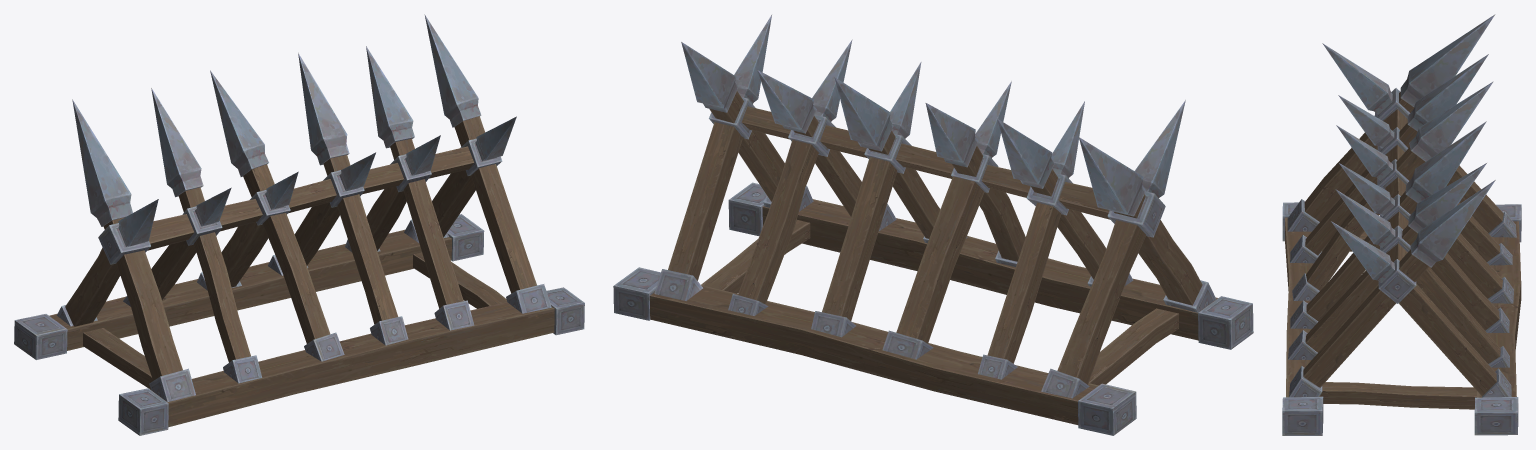
The model's file is Homeworld_Exterior_Xm_Decoration_Prop_Barrier_01_Lod0.fbx.
The picture shows the model from 3 angles, left to right: view 1: azimuth 30°, elevation 25°; view 2: azimuth 150°, elevation 25°; view 3: azimuth 270°, elevation 25°; orthographic projection. The views are drawn at different scales.
Parts seen in each view (by area): view 1: Homeworld_Exterior_Xm_Decoration_Prop_Barrier_01_Lod0; view 2: Homeworld_Exterior_Xm_Decoration_Prop_Barrier_01_Lod0; view 3: Homeworld_Exterior_Xm_Decoration_Prop_Barrier_01_Lod0.
Part boxes in pixels (<box>): Homeworld_Exterior_Xm_Decoration_Prop_Barrier_01_Lod0: <box>14,14,584,435</box>; Homeworld_Exterior_Xm_Decoration_Prop_Barrier_01_Lod0: <box>613,15,1253,435</box>; Homeworld_Exterior_Xm_Decoration_Prop_Barrier_01_Lod0: <box>1282,14,1521,435</box>.
Bounding box in the file's own units: 2.7 × 1.43 × 1.32.
